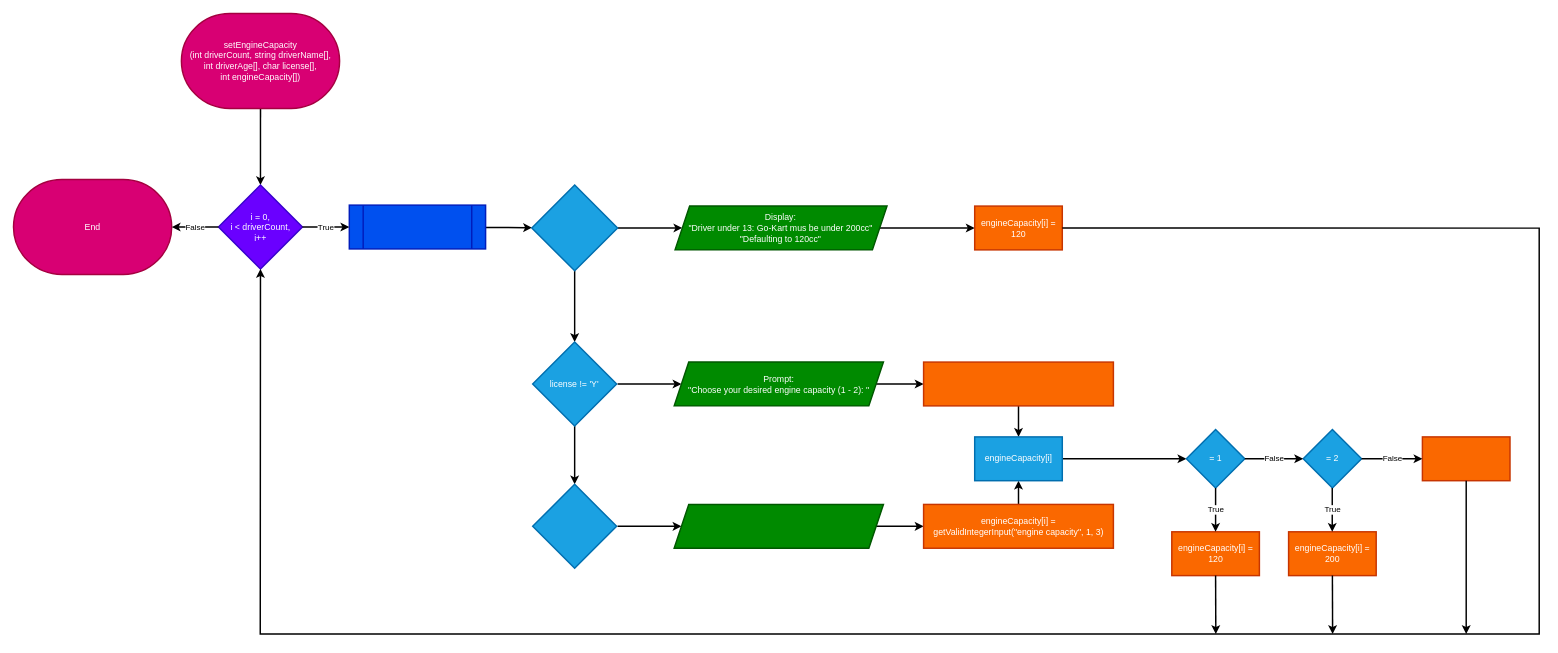
The diagram is 1558 pixels wide and 653 high, and some of its shapes have lost their labels. Here are the shapes that lost their labels. From the top down, the centre of each, then its label:
pixel 417 226: displayEngineCapacities (driverAge[i], license[i]
pixel 574 227: driverAge[i] < 13
pixel 1018 383: engineCapacity[i] = getValidIntegerInput("engine capacity", 1, 2)
pixel 1465 458: engineCapacity[i] = 270
pixel 574 526: license == 'Y'
pixel 778 526: Prompt: "Choose your desired engine capacity (1 - 3): "
